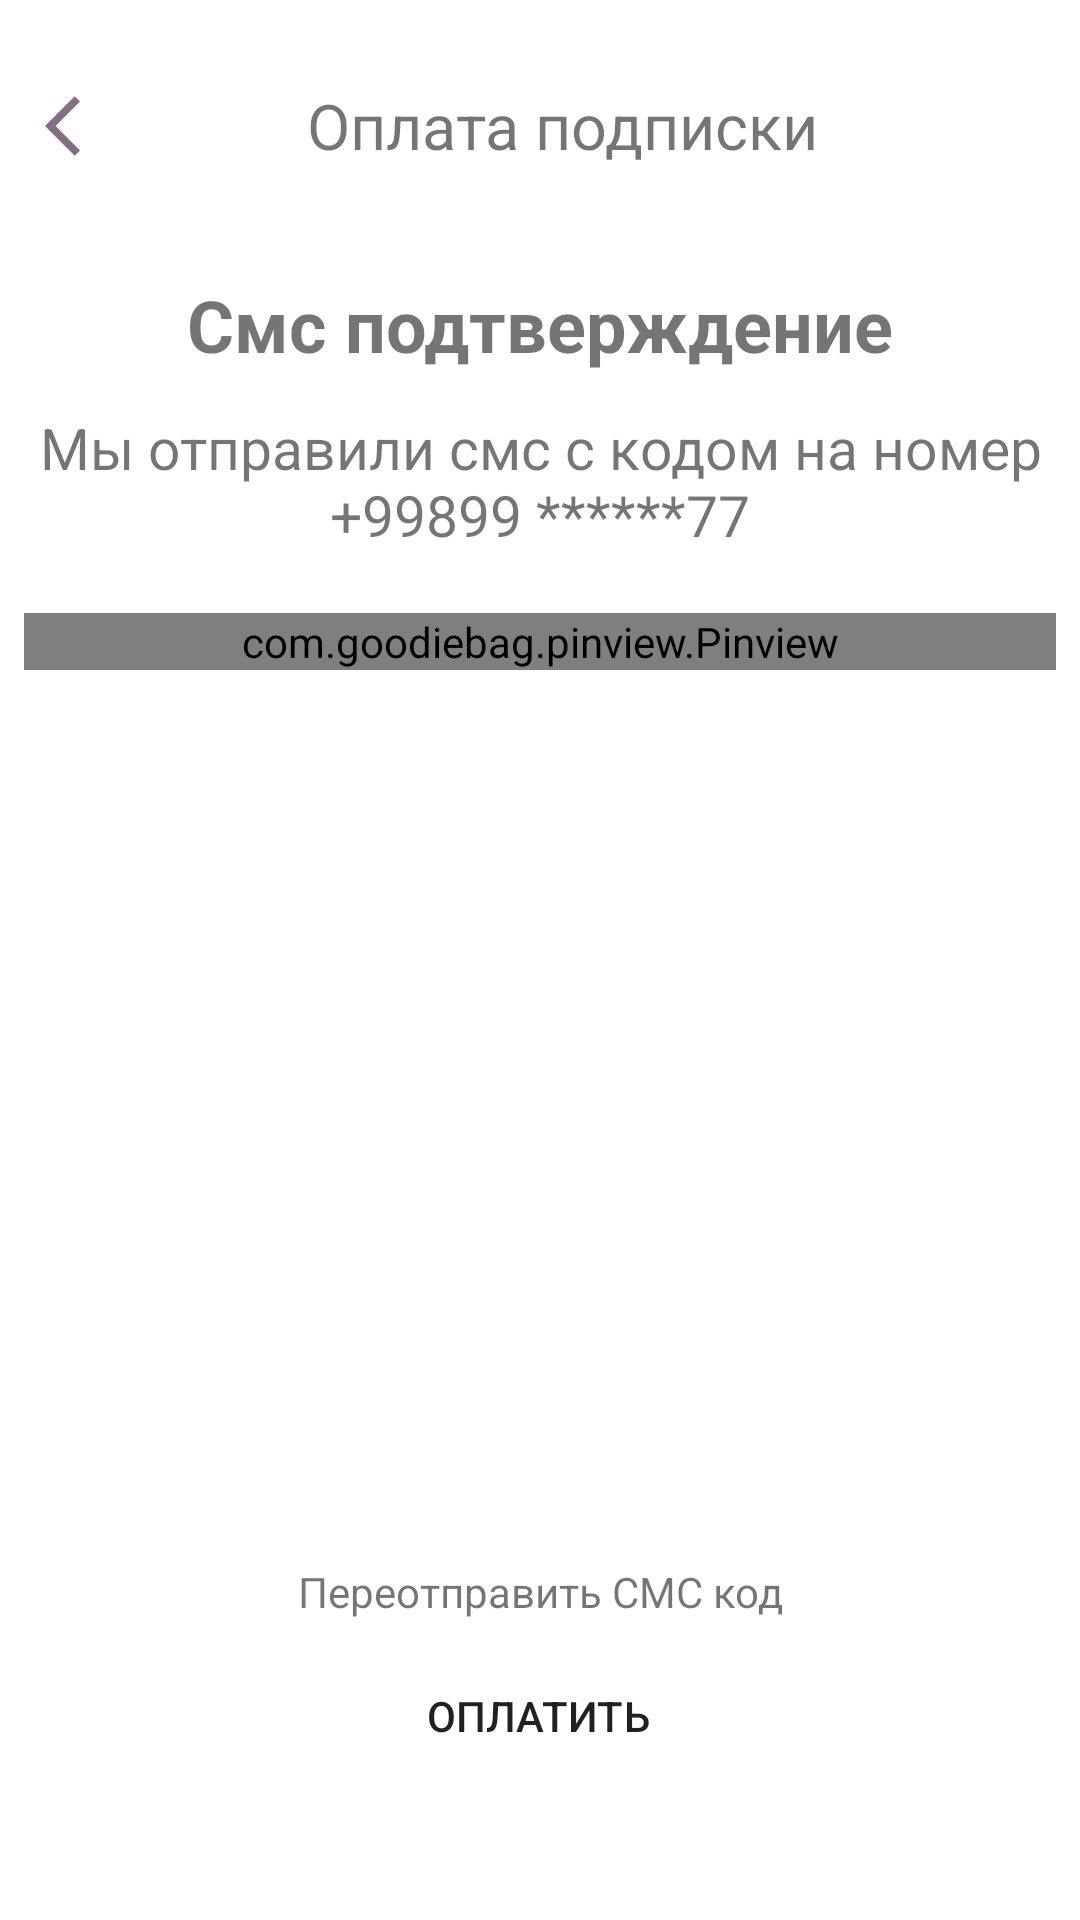

Where to tap for icons on this 1080x1920 app screen, as [x,y]:
back: [62,126]
